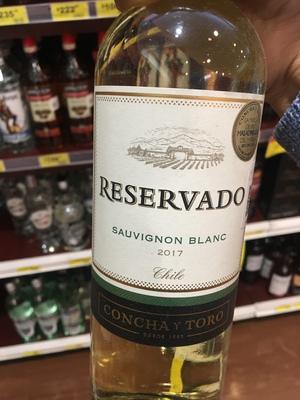reservado sauvignon blanc: (89, 33, 257, 390)
